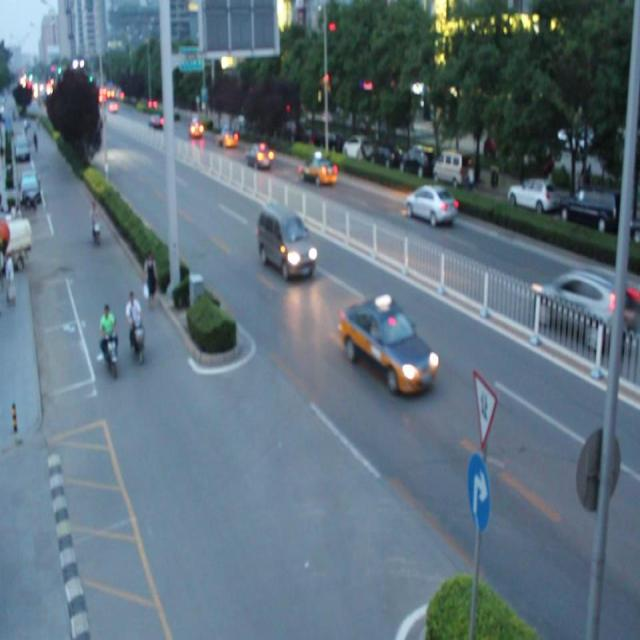car: (339, 295, 436, 395), (529, 266, 626, 350), (404, 185, 456, 225), (298, 153, 336, 186), (245, 143, 272, 168), (213, 125, 236, 148), (187, 116, 202, 134)
truck: (256, 203, 314, 279)
